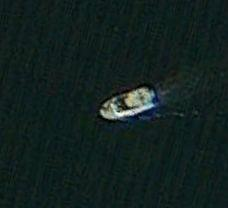Ships: (97, 82, 170, 130)
